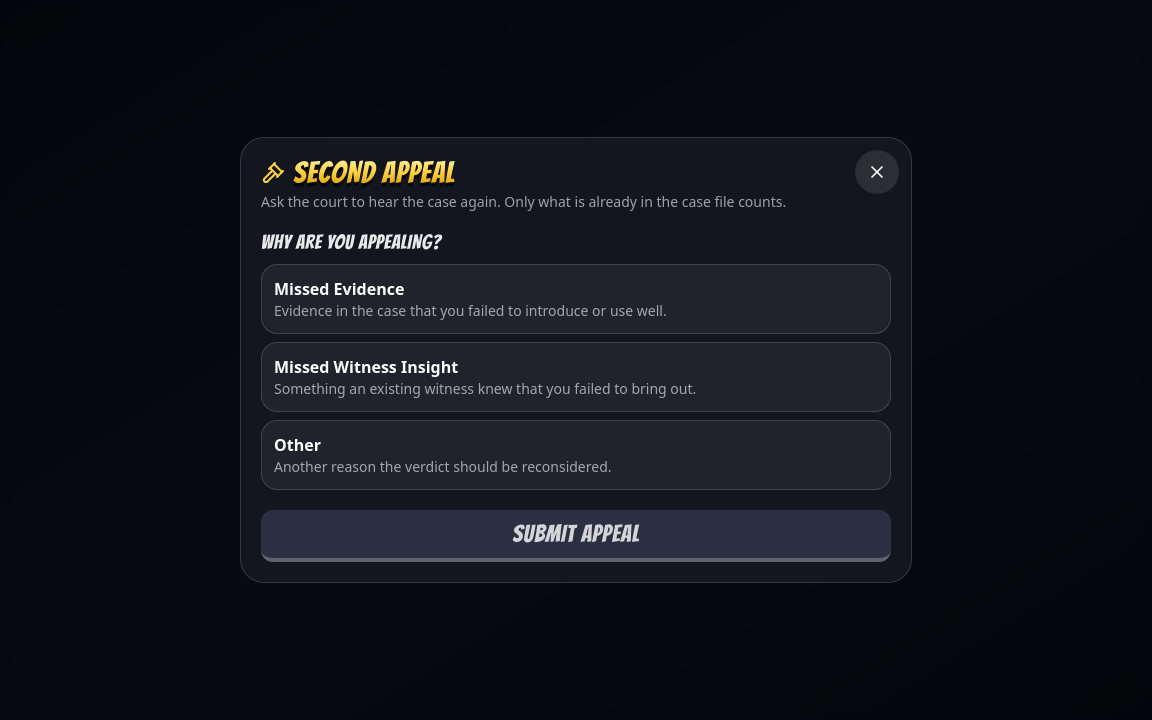
Test case: AppealForm › shows both lists, optional, for "Other"
This screenshot has width=1152, height=720.
Check: the heading "SECOND APPEAL" is shown, box [293,158,455,188]
Click the text "Other". click: (297, 445)
box: [274,434,321,456]
(page scrolled)
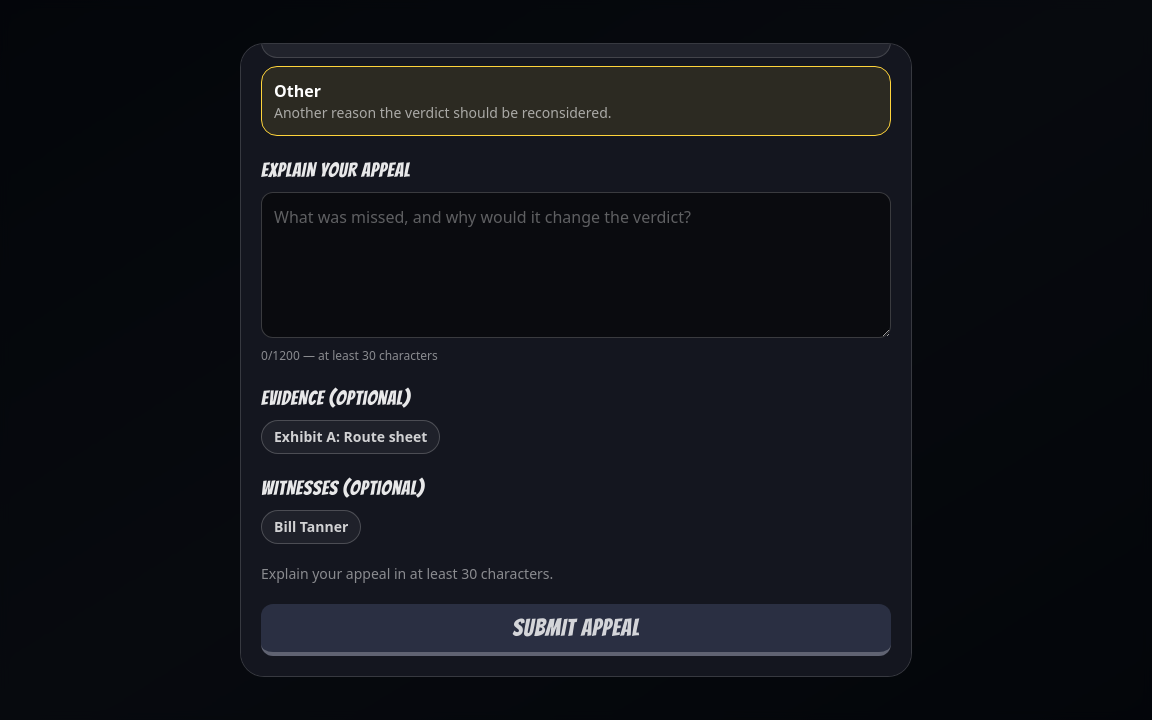
Check: the button "Exhibit A: Route sheet" is shown, box [261,420,440,454]
Check: the button "Bill Tanner" is shown, box [261,510,361,544]
